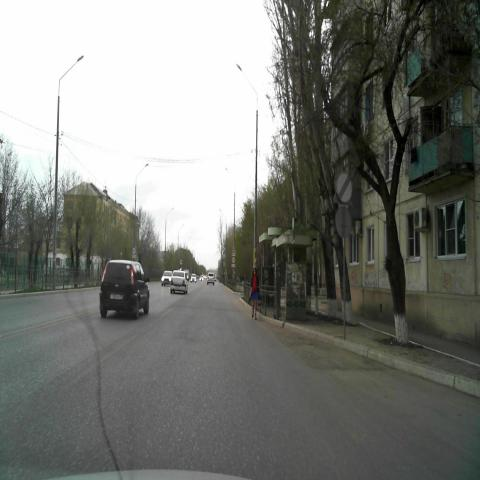3_31: (336, 171, 352, 205)
